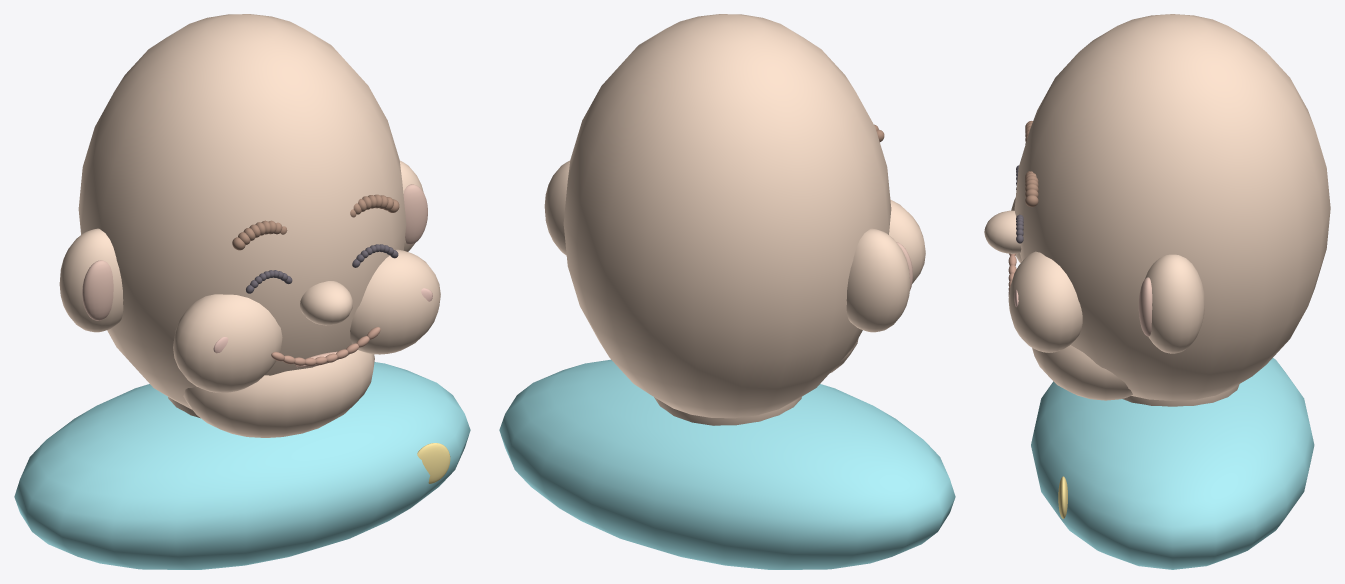
Rendered from joy.glb.
3 renders of one model, left to right at view 1: azimuth 30°, elevation 25°; view 2: azimuth 150°, elevation 25°; view 3: azimuth 270°, elevation 25°, orthographic. The views are drawn at different scales.
Parts seen in each view (by area): view 1: Head, Cape, Chin_round, Cheek_-1, Cheek_1, Ear_-1, Nose_button, Ear_inner_-1, Ear_inner_1, Emotion_badge; view 2: Head, Cape, Ear_-1, Cheek_-1, Ear_1, Neck; view 3: Head, Cape, Cheek_1, Ear_1, Chin_round, Nose_button, Neck, Ear_inner_1.
Part boxes in pixels (x1,y1,x2,y2): Head: (78, 14, 406, 409); Cape: (14, 362, 470, 569); Chin_round: (183, 350, 374, 437); Cheek_-1: (173, 294, 282, 392); Cheek_1: (350, 249, 440, 354); Ear_-1: (59, 228, 123, 332); Nose_button: (300, 281, 352, 325); Ear_inner_-1: (82, 260, 113, 320); Ear_inner_1: (403, 184, 427, 244); Emotion_badge: (417, 443, 450, 483); Head: (563, 14, 891, 418); Cape: (499, 359, 955, 569); Ear_-1: (846, 228, 910, 332); Cheek_-1: (889, 199, 925, 283); Ear_1: (544, 160, 570, 255); Neck: (654, 397, 801, 425); Head: (1014, 14, 1330, 400); Cape: (1031, 358, 1314, 569); Cheek_1: (1008, 251, 1082, 352); Ear_1: (1145, 254, 1204, 353); Chin_round: (1032, 345, 1132, 400); Nose_button: (984, 210, 1021, 253); Neck: (1122, 384, 1239, 406); Ear_inner_1: (1138, 277, 1152, 336).
Size of the model in its own units: 2.36 by 2.69 by 1.71.
